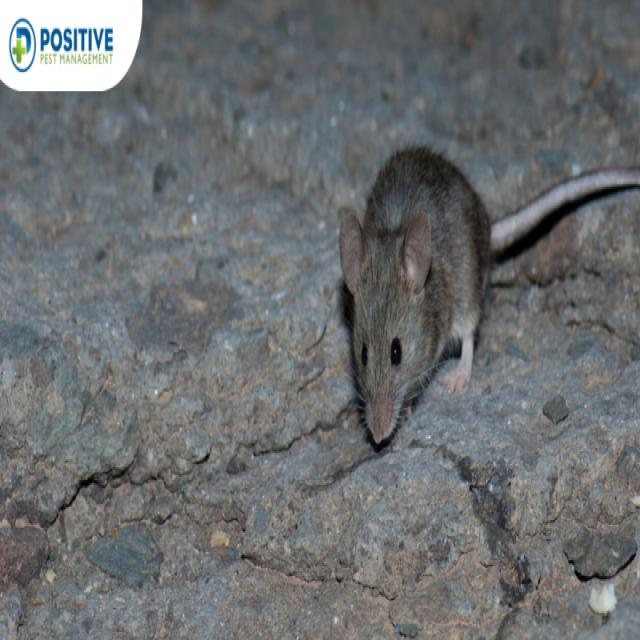rat: (335, 125, 640, 510)
